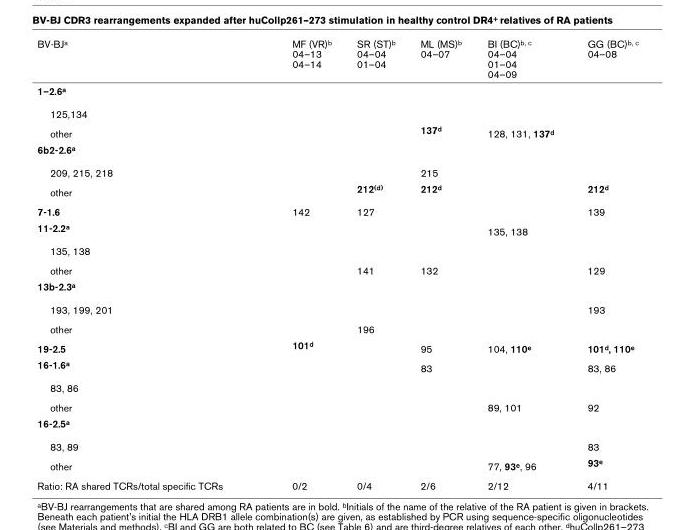table: (36, 37, 637, 491)
table column: (36, 37, 256, 491), (473, 37, 569, 491), (256, 37, 343, 491), (569, 37, 637, 491), (407, 37, 473, 491), (343, 37, 407, 491)
table column header: (36, 37, 637, 81)
table projected row header: (36, 81, 637, 101), (36, 101, 637, 121), (36, 140, 637, 160), (36, 240, 637, 260), (36, 277, 637, 297), (36, 377, 637, 397), (36, 414, 637, 434)
table row: (36, 37, 637, 81), (36, 180, 637, 201), (36, 219, 637, 240), (36, 297, 637, 318), (36, 356, 637, 377), (36, 454, 637, 475), (36, 81, 637, 101), (36, 101, 637, 121), (36, 140, 637, 160), (36, 160, 637, 180), (36, 240, 637, 260), (36, 277, 637, 297), (36, 336, 637, 356), (36, 377, 637, 397), (36, 414, 637, 434), (36, 434, 637, 454), (36, 121, 637, 140), (36, 201, 637, 219), (36, 318, 637, 336), (36, 260, 637, 277), (36, 397, 637, 414), (36, 475, 637, 491)
